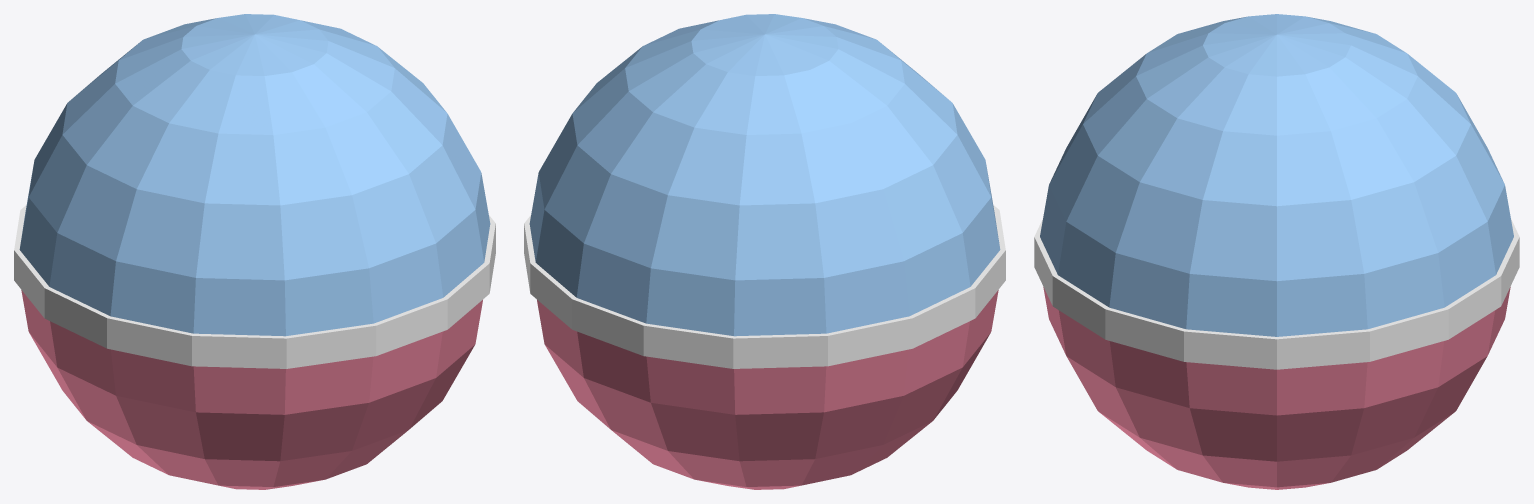
The model's file is gacha_capsule.glb.
3 renders of one model, left to right at view 1: azimuth 30°, elevation 25°; view 2: azimuth 150°, elevation 25°; view 3: azimuth 270°, elevation 25°, orthographic.
Visible parts, largest first — view 1: Sphere, Cylinder; view 2: Sphere, Cylinder; view 3: Sphere, Cylinder.
Boxes of the visible parts, left/top/right/bottom form: Sphere: left=19, top=14, right=490, bottom=489; Cylinder: left=14, top=205, right=495, bottom=368; Sphere: left=529, top=14, right=1000, bottom=489; Cylinder: left=524, top=205, right=1005, bottom=368; Sphere: left=1040, top=14, right=1513, bottom=489; Cylinder: left=1034, top=219, right=1519, bottom=369.
Size of the model in its own units: 5.06 by 5 by 5.06.
